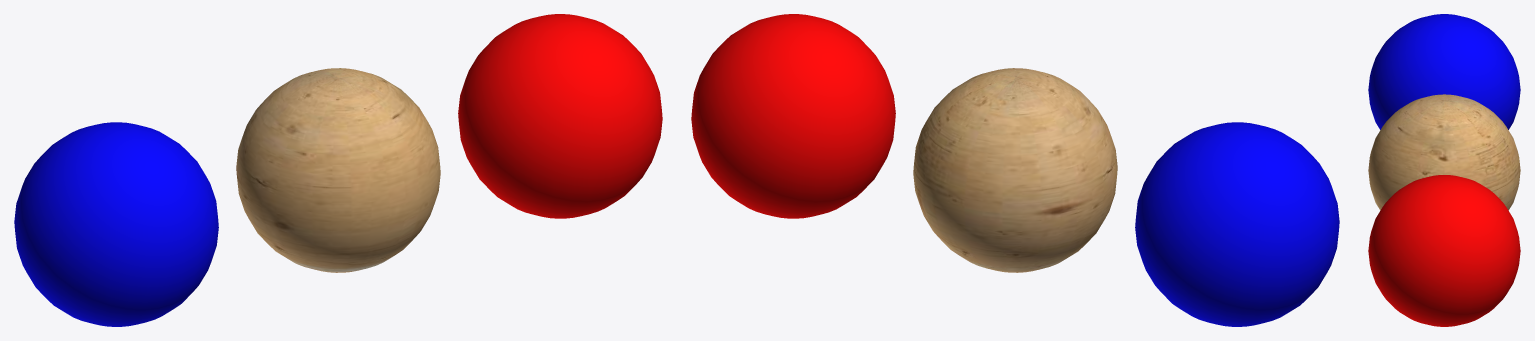
File: PBR_Textures.FBX
3 views of the same model, side by side, from view 1: azimuth 30°, elevation 25°; view 2: azimuth 150°, elevation 25°; view 3: azimuth 270°, elevation 25° (orthographic). The views are drawn at different scales.
Visible parts, largest first — view 1: SphereMetallicRoughness, SphereBump, SphereBaseColor; view 2: SphereMetallicRoughness, SphereBump, SphereBaseColor; view 3: SphereMetallicRoughness, SphereBaseColor, SphereBump.
Part boxes in pixels (x1,y1,x2,y2): SphereMetallicRoughness: [458, 14, 662, 218]; SphereBump: [14, 122, 218, 326]; SphereBaseColor: [236, 68, 440, 272]; SphereMetallicRoughness: [691, 14, 895, 218]; SphereBump: [1135, 122, 1339, 326]; SphereBaseColor: [913, 68, 1117, 272]; SphereMetallicRoughness: [1368, 175, 1520, 326]; SphereBaseColor: [1368, 94, 1520, 210]; SphereBump: [1368, 14, 1520, 129].
Size of the model in its own units: 14 by 4 by 4.
